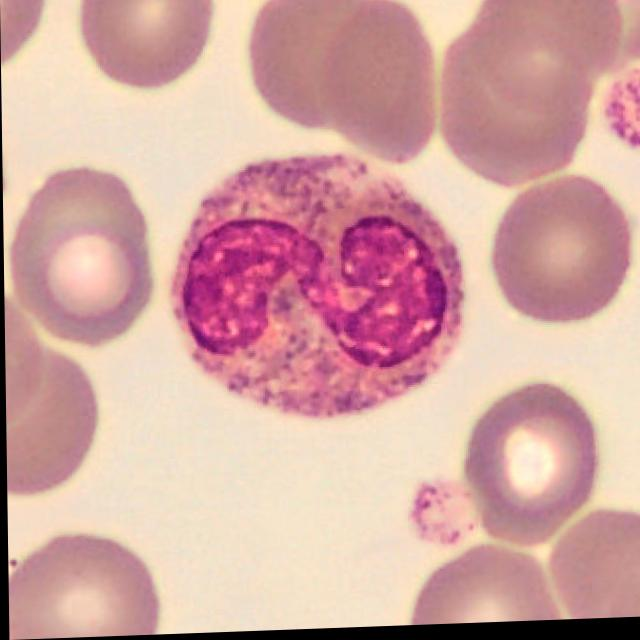Bastonete: (169, 155, 464, 421)
